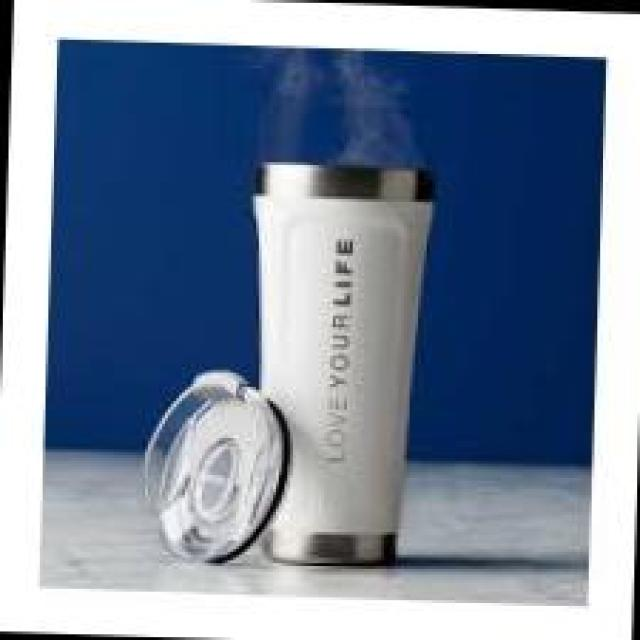bottle: (239, 159, 435, 563)
